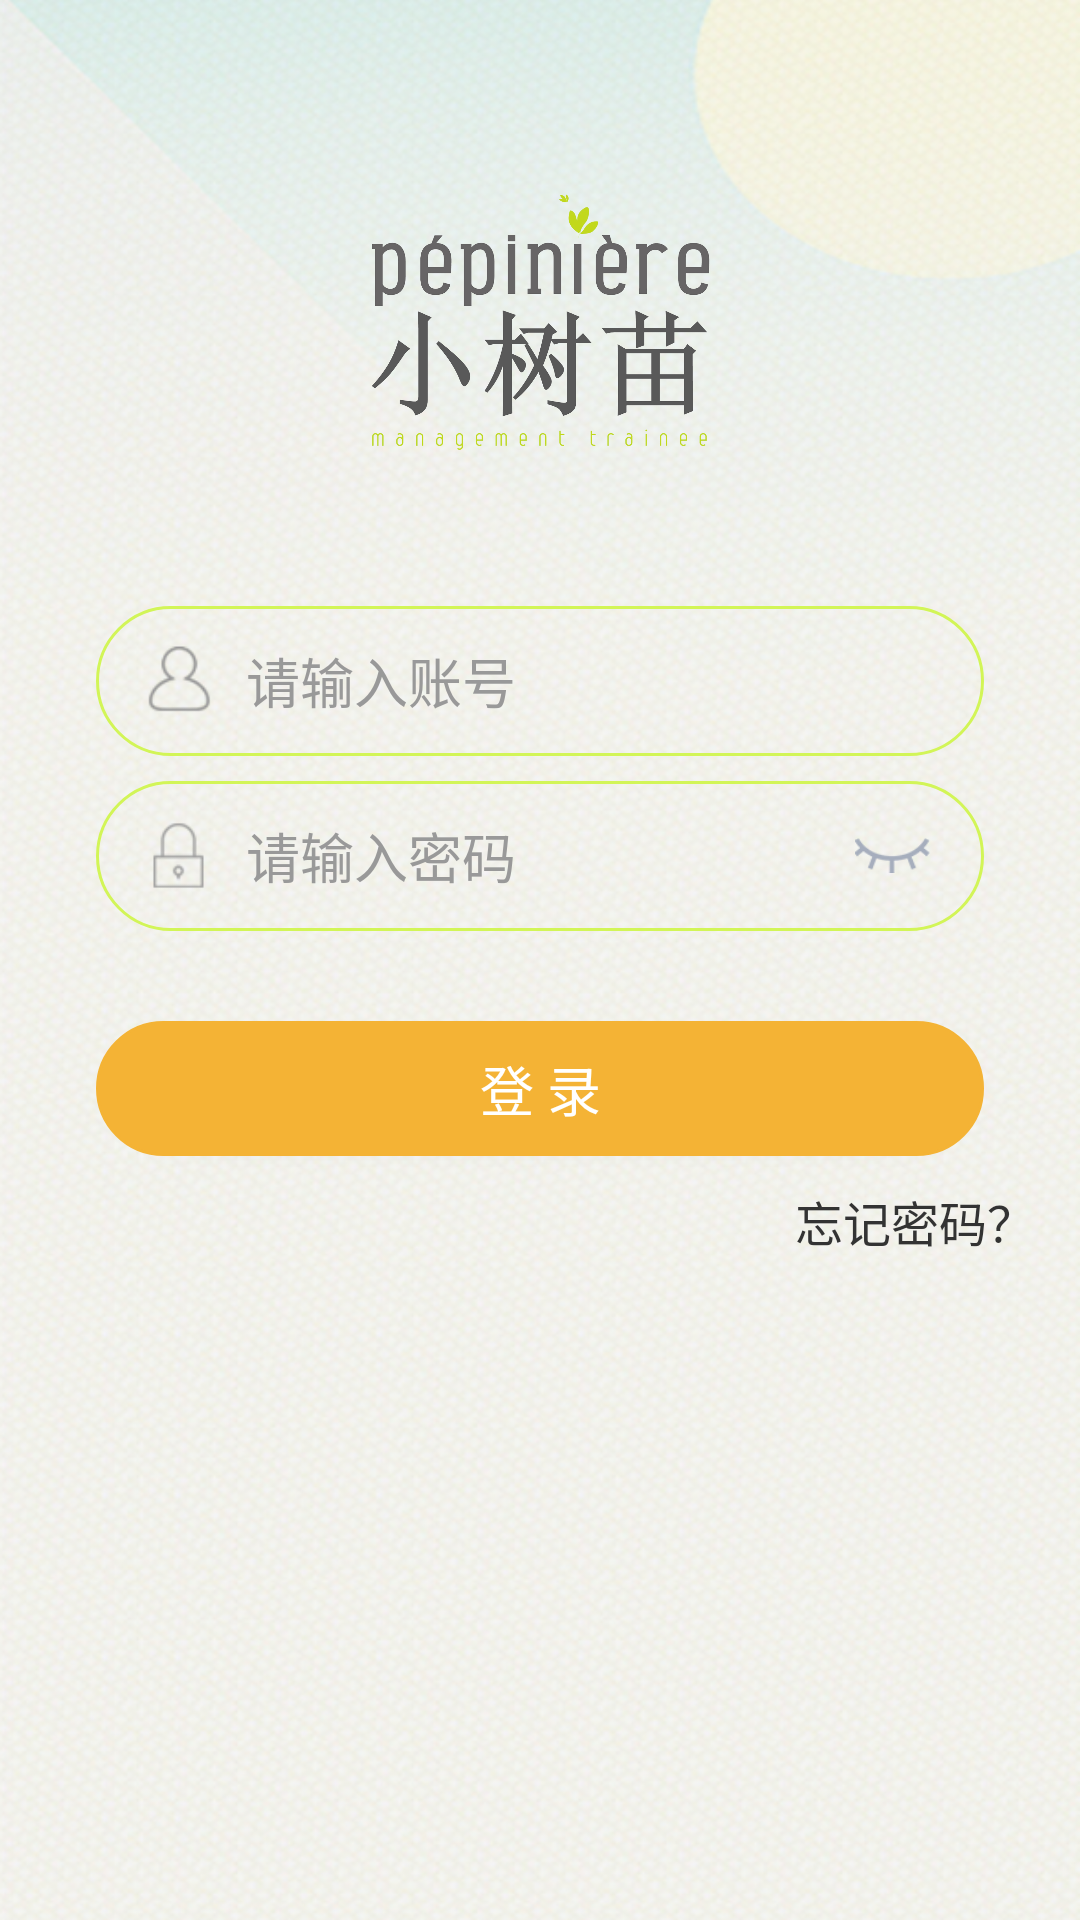

Where to tap for icons on this 1080px x 1920px app screen, as (x,y):
closeeye: (892,855)
login password: (178,855)
login username: (179,678)
